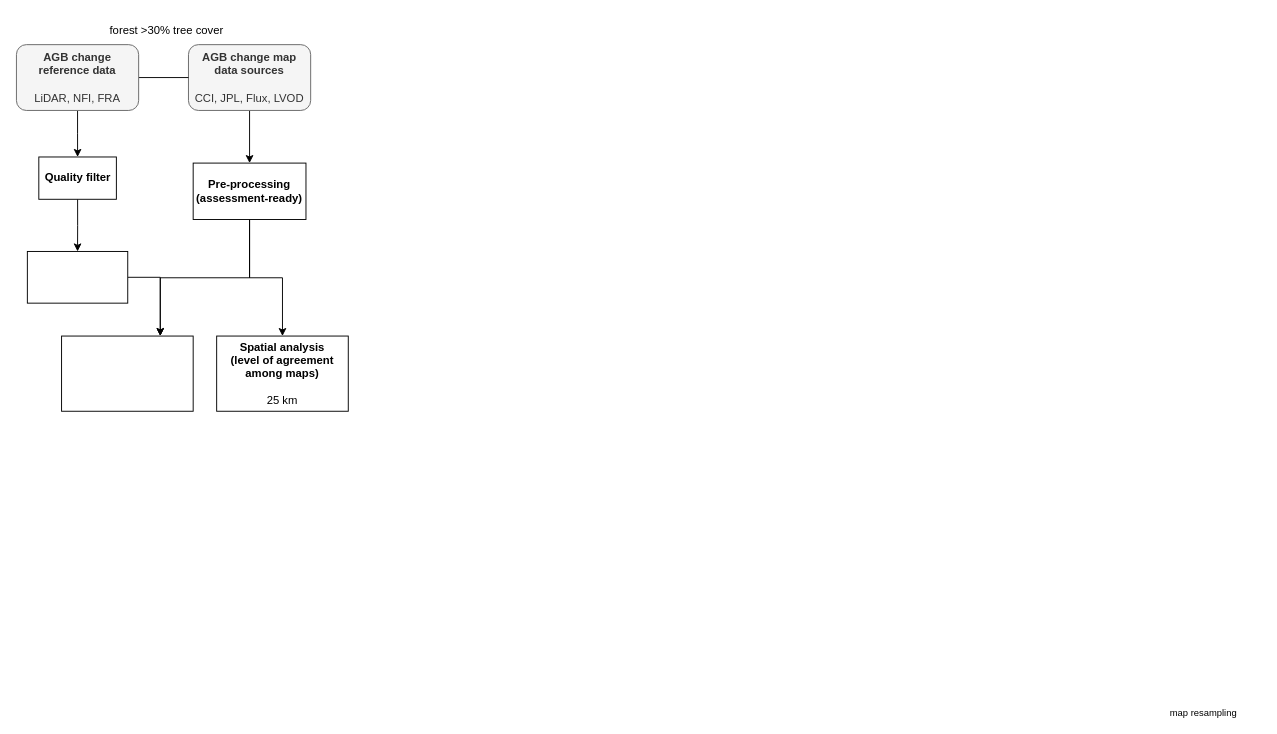
Image size: 1277x734. Some labels were removed from this diagram. Each missing label, with the centre of its shape:
AGB change assessment 100m, 500m, 1km, 10km, 25km: point 127,373
Uncertainty estimation: point 77,277
